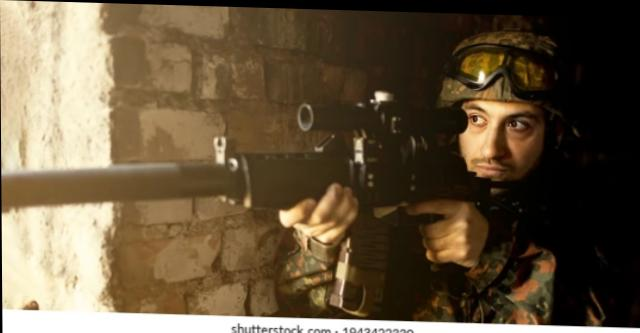other: (327, 47, 567, 310)
